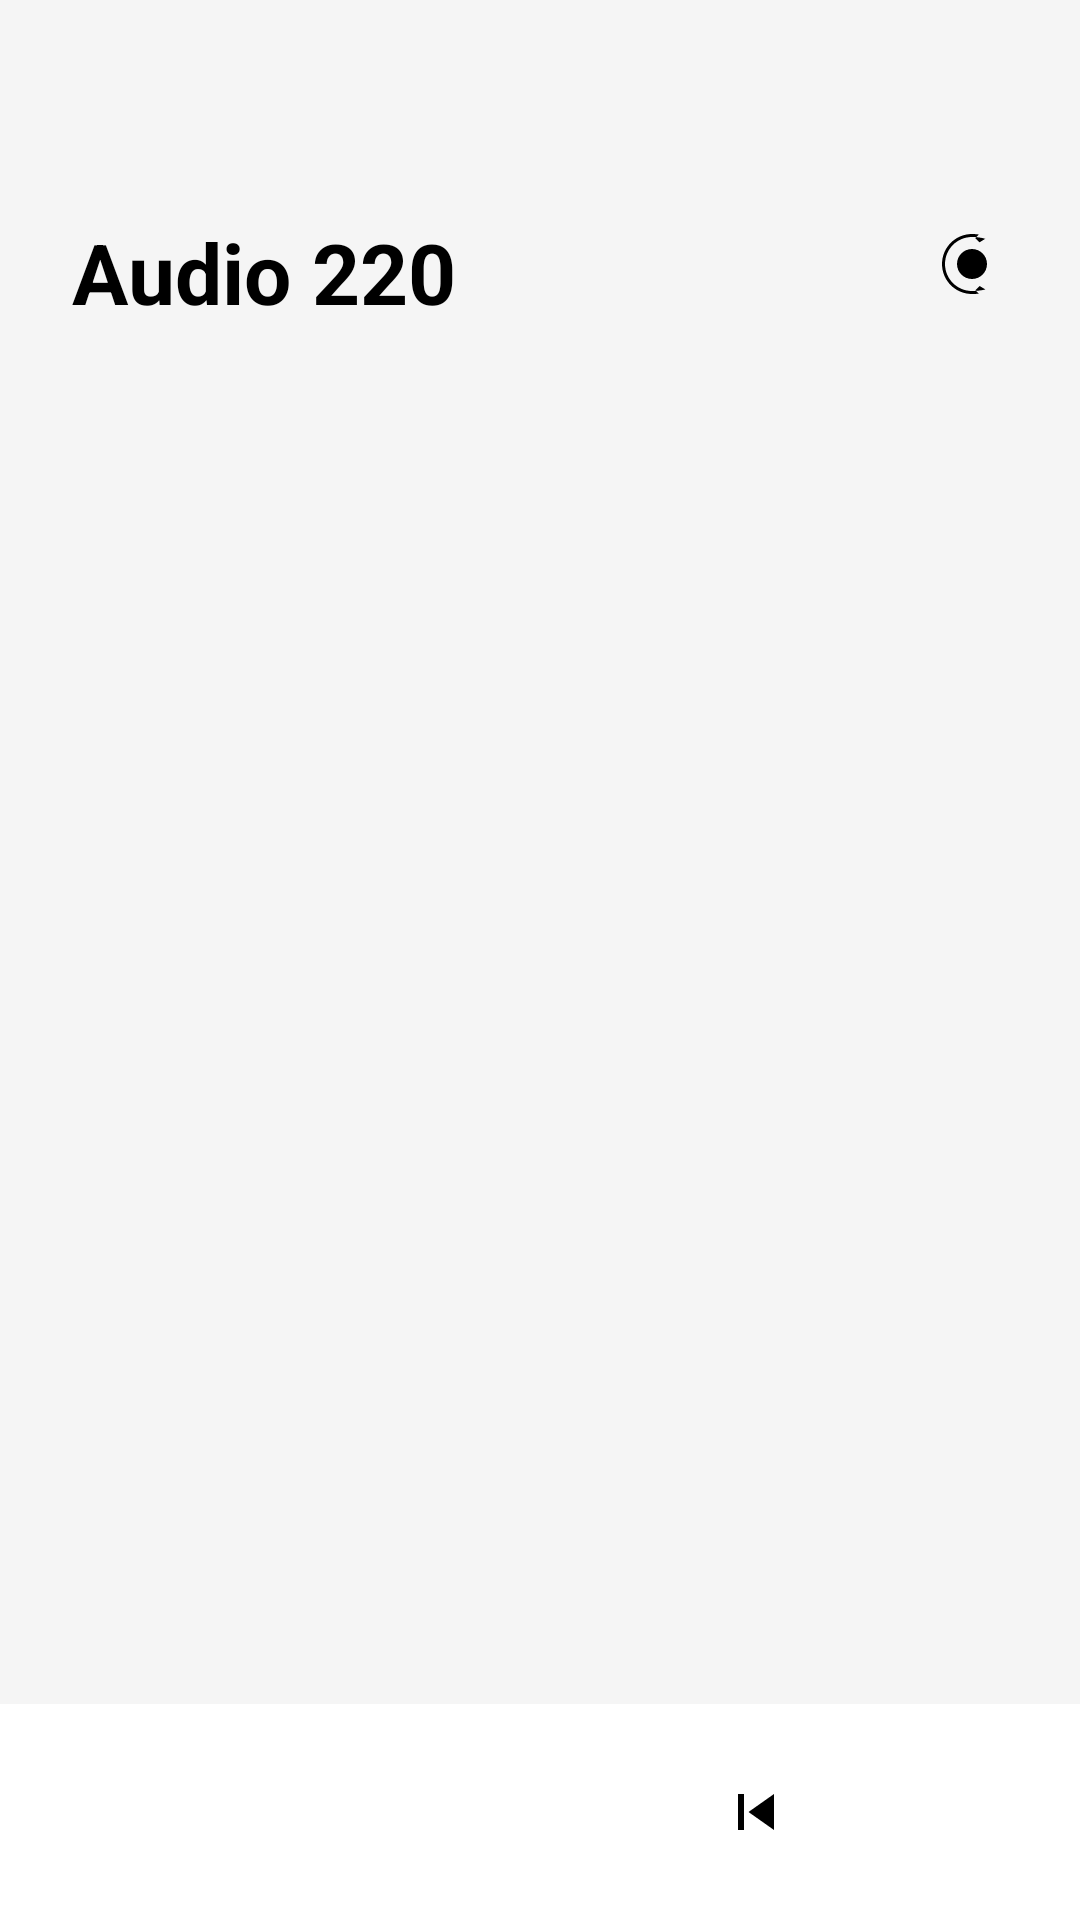

Icons on this 1080w x 1920h Android screen, each with the point to tap as (x,y):
previous: (756,1812)
